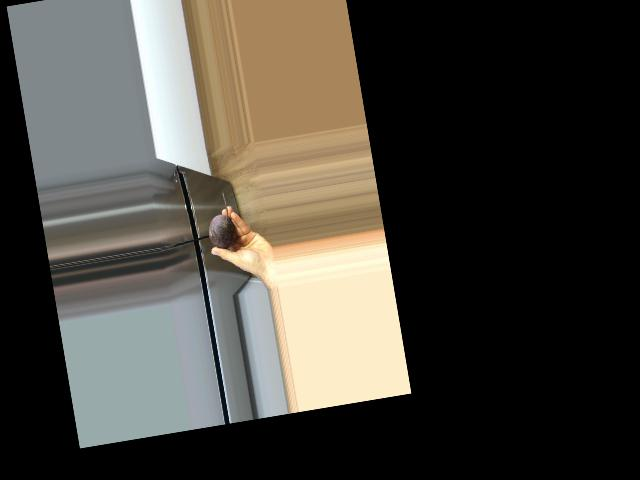beet: (202, 190, 237, 250)
